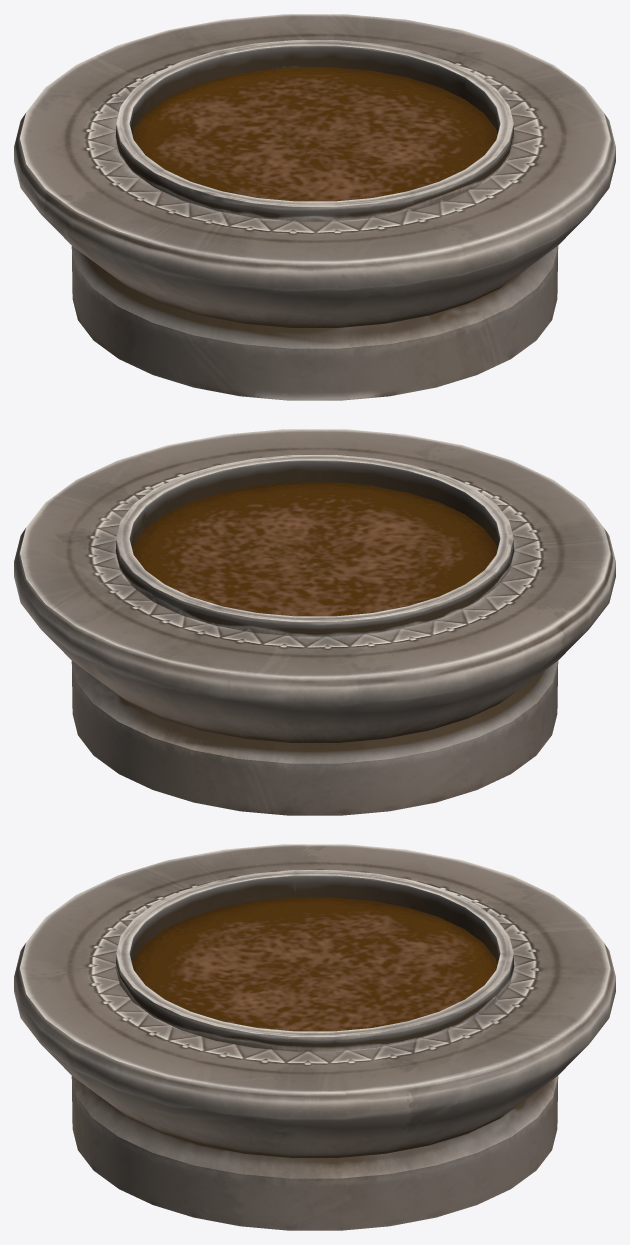
The model's file is SM_Plantation_Table.fbx.
3 views of the same model, one above another, from view 1: azimuth 30°, elevation 25°; view 2: azimuth 150°, elevation 25°; view 3: azimuth 270°, elevation 25° (orthographic).
Parts seen in each view (by area): view 1: SM_Plantation_Table_LOD0; view 2: SM_Plantation_Table_LOD0; view 3: SM_Plantation_Table_LOD0.
Boxes of the visible parts, left/top/right/bottom form: SM_Plantation_Table_LOD0: left=14, top=14, right=615, bottom=400; SM_Plantation_Table_LOD0: left=14, top=429, right=615, bottom=815; SM_Plantation_Table_LOD0: left=14, top=844, right=615, bottom=1230.
Size of the model in its own units: 276 by 278 by 89.38.
Materials: 1 (1 with a texture image).
